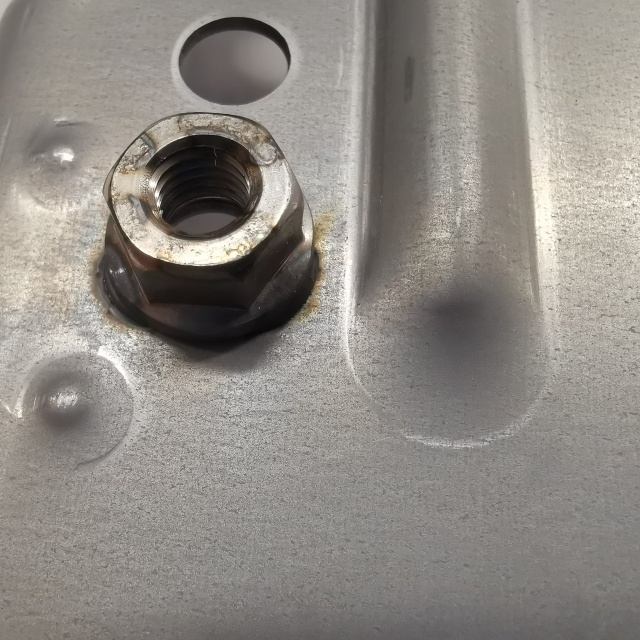dog: (94, 108, 327, 353)
